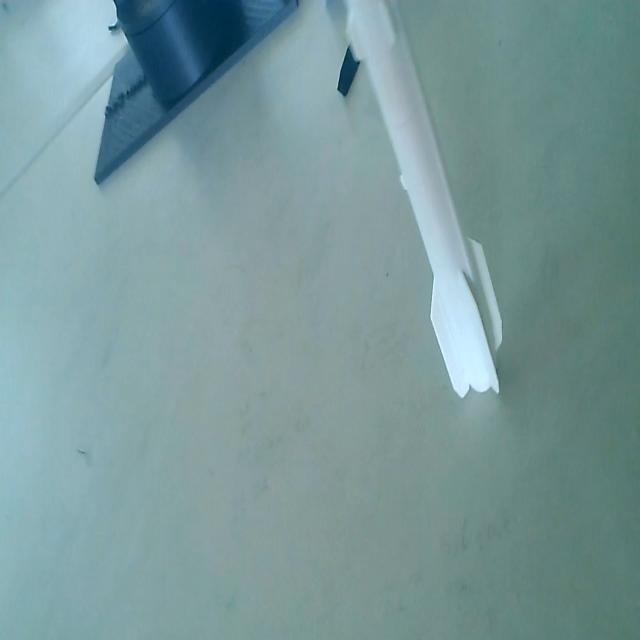Rocket: (341, 0, 504, 405)
